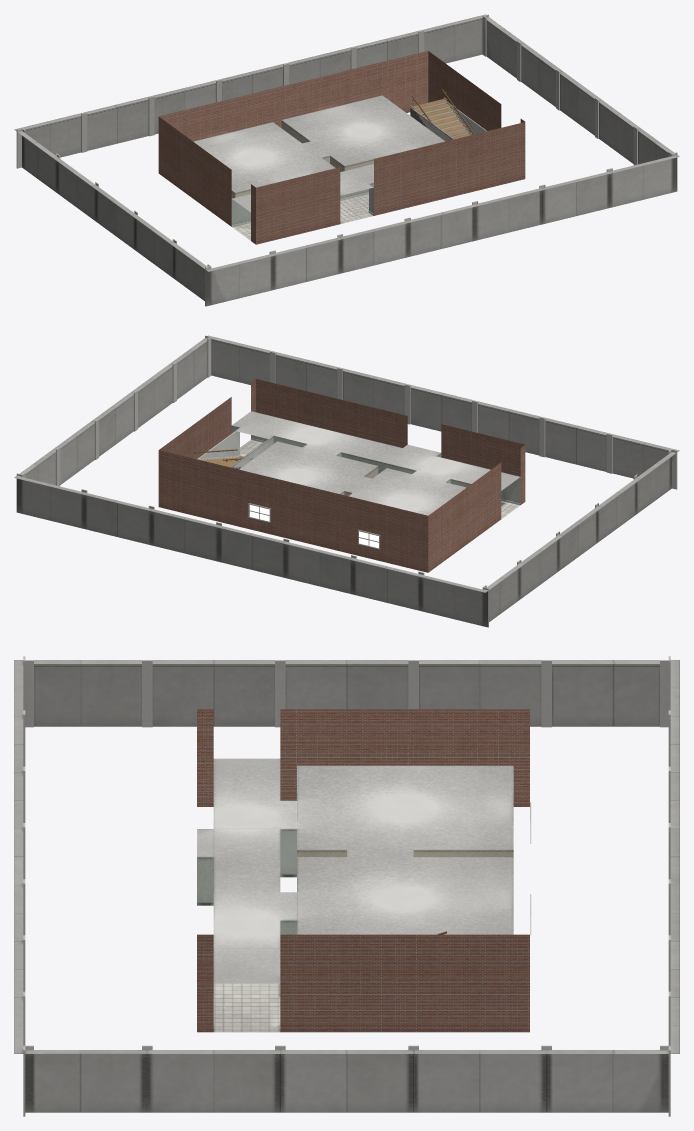
The model's file is annex_f1.glb.
The picture shows the model from 3 angles, top to bottom: view 1: azimuth 30°, elevation 25°; view 2: azimuth 150°, elevation 25°; view 3: azimuth 270°, elevation 25°; orthographic projection. The views are drawn at different scales.
Visible parts, largest first — view 1: fence, shell, ceil, stairs; view 2: fence, shell, ceil; view 3: fence, ceil, shell.
Part boxes in pixels (<box>): fence: <box>14,14,679,306</box>; shell: <box>158,51,525,244</box>; ceil: <box>193,95,444,212</box>; stairs: <box>410,89,474,139</box>; fence: <box>14,335,679,627</box>; shell: <box>158,379,525,572</box>; ceil: <box>232,411,519,515</box>; fence: <box>14,656,679,1116</box>; ceil: <box>197,758,513,983</box>; shell: <box>197,709,531,1032</box>.
Size of the model in its own units: 1400 by 162 by 1000.
Materials: 16 (16 with a texture image).
